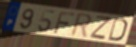5: (37, 9, 56, 33)
9: (18, 8, 37, 31)
D: (107, 17, 129, 43)
F: (52, 11, 76, 35)
R: (69, 12, 94, 40)
Z: (89, 15, 112, 42)
